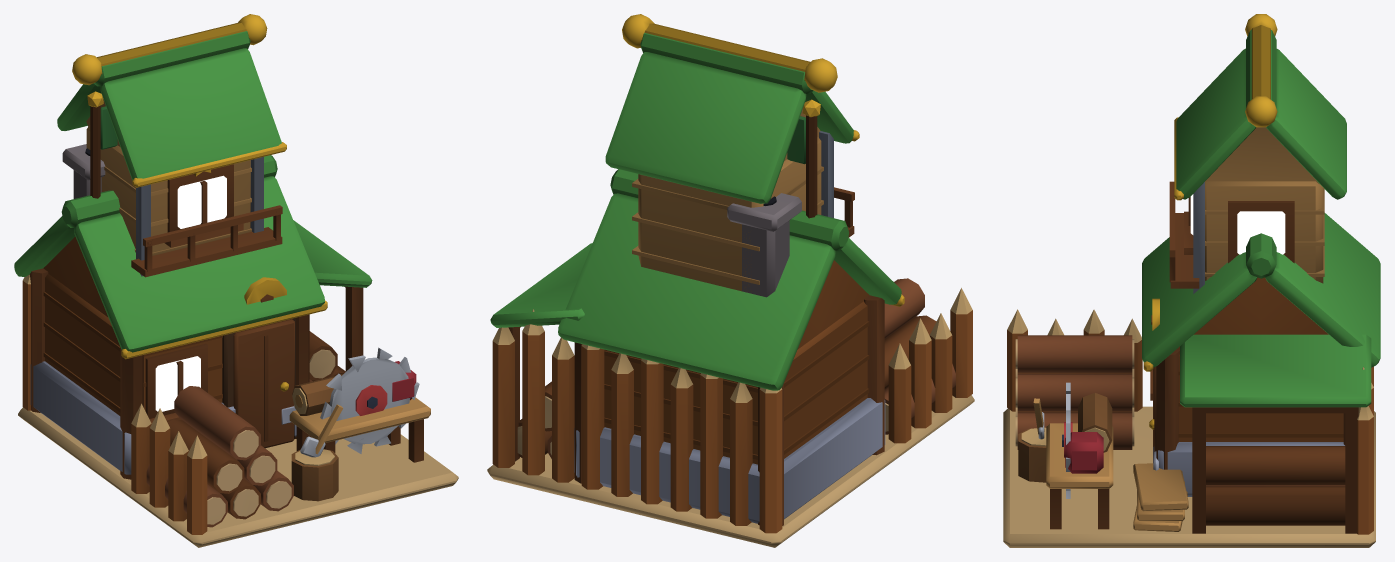
Rendered from o_special_gruental.glb.
The picture shows the model from 3 angles, left to right: view 1: azimuth 30°, elevation 25°; view 2: azimuth 150°, elevation 25°; view 3: azimuth 270°, elevation 25°; orthographic projection. The views are drawn at different scales.
Visible parts, largest first — view 1: body, lv3_upper, lv4_armor, lv5_gold, lv2_annex, spin_blade, lv3_win_glow, win_glow, sway_flag; view 2: body, lv4_armor, lv3_upper, lv2_annex, lv5_gold, sway_flag; view 3: body, lv2_annex, lv3_upper, lv4_armor, lv5_gold, lv3_win_glow, spin_blade.
Boxes of the visible parts, x1=… form: body: x1=14, y1=91, x2=458, y2=547; lv3_upper: x1=57, y1=31, x2=282, y2=277; lv4_armor: x1=22, y1=157, x2=296, y2=534; lv5_gold: x1=72, y1=14, x2=327, y2=359; lv2_annex: x1=293, y1=220, x2=372, y2=437; spin_blade: x1=320, y1=347, x2=419, y2=453; lv3_win_glow: x1=177, y1=175, x2=226, y2=228; win_glow: x1=155, y1=356, x2=200, y2=411; sway_flag: x1=100, y1=106, x2=117, y2=149; body: x1=487, y1=99, x2=974, y2=547; lv4_armor: x1=492, y1=131, x2=972, y2=533; lv3_upper: x1=605, y1=32, x2=854, y2=292; lv2_annex: x1=490, y1=243, x2=592, y2=461; lv5_gold: x1=622, y1=14, x2=904, y2=306; sway_flag: x1=787, y1=116, x2=805, y2=164; body: x1=1003, y1=213, x2=1380, y2=547; lv2_annex: x1=1133, y1=334, x2=1371, y2=533; lv3_upper: x1=1169, y1=30, x2=1346, y2=288; lv4_armor: x1=1007, y1=182, x2=1373, y2=534; lv5_gold: x1=1143, y1=14, x2=1277, y2=371; lv3_win_glow: x1=1190, y1=194, x2=1285, y2=254; spin_blade: x1=1062, y1=382, x2=1072, y2=498.
Bounding box in the file's own units: 3.35 × 4.75 × 3.95.
